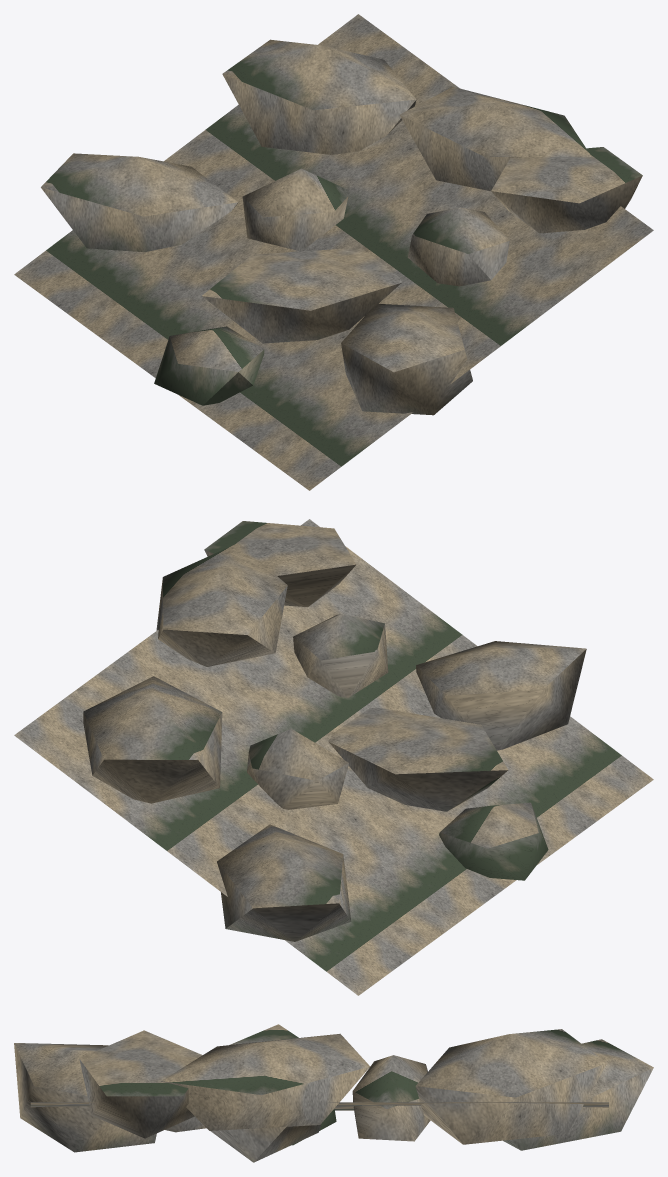
File: SM_Molo_Scogliera_A_v2_LOD2.fbx
3 renders of one model, top to bottom at view 1: azimuth 30°, elevation 25°; view 2: azimuth 150°, elevation 25°; view 3: azimuth 270°, elevation 25°, orthographic. The views are drawn at different scales.
Visible parts, largest first — view 1: SM_Molo_Scogliera_A_v2_LOD2; view 2: SM_Molo_Scogliera_A_v2_LOD2; view 3: SM_Molo_Scogliera_A_v2_LOD2.
Part boxes in pixels (left/top/right/bottom): SM_Molo_Scogliera_A_v2_LOD2: left=14, top=14, right=653, bottom=490; SM_Molo_Scogliera_A_v2_LOD2: left=14, top=519, right=653, bottom=995; SM_Molo_Scogliera_A_v2_LOD2: left=14, top=1024, right=653, bottom=1162.
Size of the model in its own units: 654 by 940 by 353.
1 material, 1 textured.
